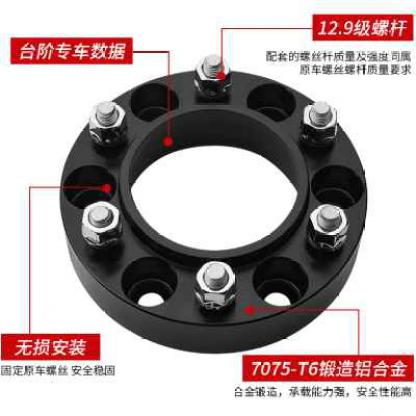FOD: (62, 58, 374, 360)
